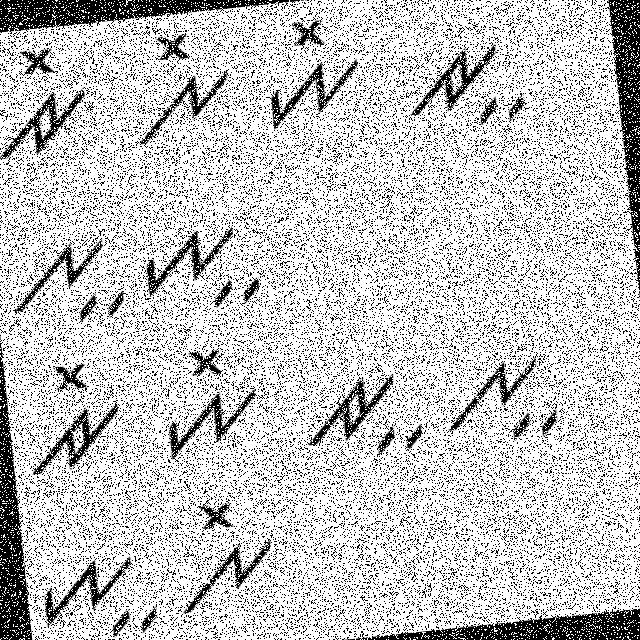lah: (437, 330, 568, 452), (2, 217, 134, 333)
lo: (118, 18, 244, 158), (165, 487, 282, 621)
rah: (290, 346, 444, 488), (394, 28, 534, 142)
ro: (14, 352, 130, 488), (0, 35, 99, 166)
yah: (24, 528, 166, 639), (138, 211, 266, 319)
yo: (247, 8, 368, 142), (145, 340, 267, 464)
